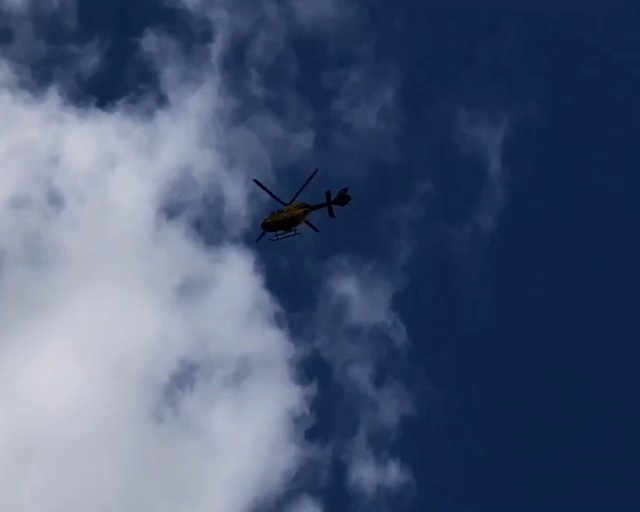HELICOPTER: (250, 167, 352, 243)
